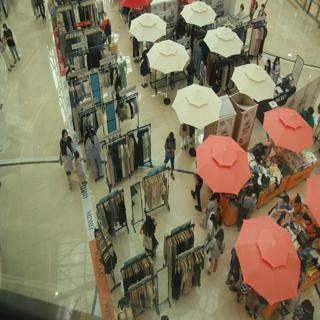person: (55, 151, 78, 192), (71, 151, 94, 191), (164, 129, 181, 182), (211, 229, 227, 274), (58, 124, 77, 151)
